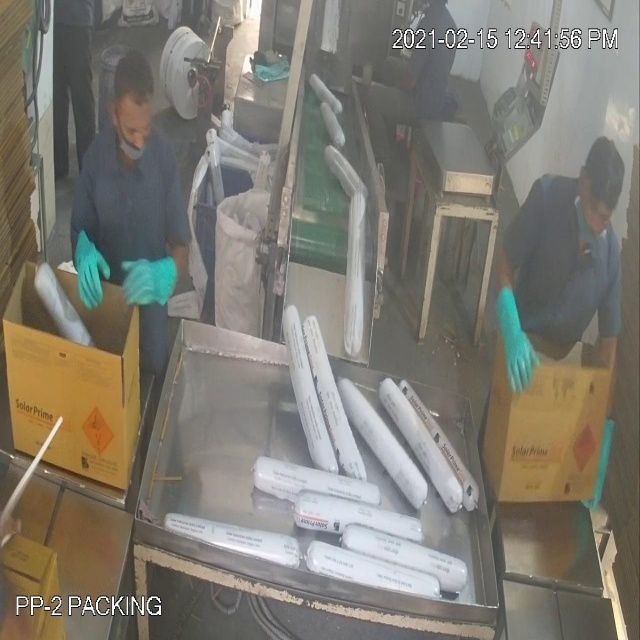Guantes: (495, 282, 546, 404), (62, 220, 117, 326), (118, 247, 191, 316), (583, 393, 623, 516)
